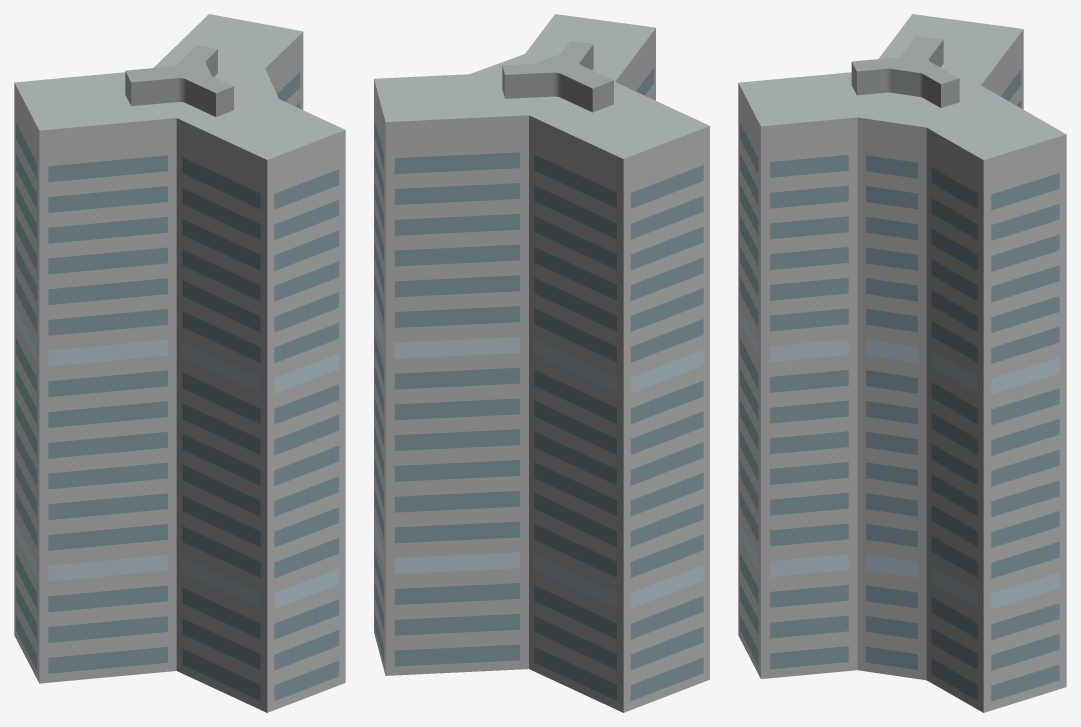
The model's file is fallback-godeok-raemian-hillstate-304.glb.
The picture shows the model from 3 angles, left to right: view 1: azimuth 30°, elevation 25°; view 2: azimuth 150°, elevation 25°; view 3: azimuth 270°, elevation 25°; orthographic projection.
Visible parts, largest first — view 1: fallback-godeok-raemian-hillstate-304; view 2: fallback-godeok-raemian-hillstate-304; view 3: fallback-godeok-raemian-hillstate-304.
Part boxes in pixels (bbox=[...]): fallback-godeok-raemian-hillstate-304: bbox=[14, 14, 345, 712]; fallback-godeok-raemian-hillstate-304: bbox=[374, 14, 709, 712]; fallback-godeok-raemian-hillstate-304: bbox=[738, 14, 1066, 712].
Bounding box in the file's own units: 31.55 × 58 × 29.92.
